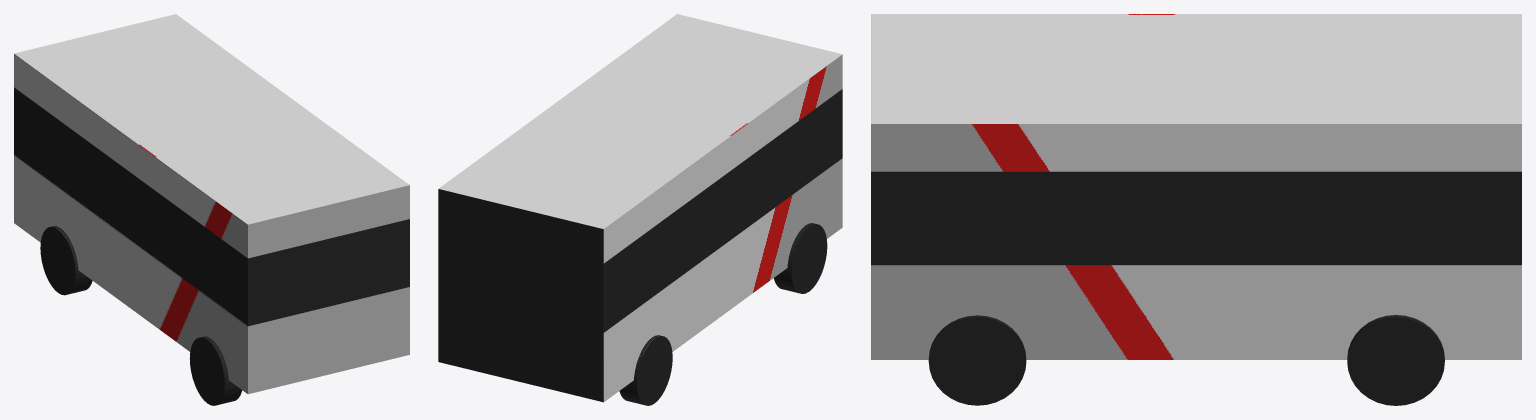
Rendered from uvx-front.glb.
3 views of the same model, side by side, from view 1: azimuth 30°, elevation 25°; view 2: azimuth 150°, elevation 25°; view 3: azimuth 270°, elevation 25° (orthographic). The views are drawn at different scales.
Visible parts, largest first — view 1: Cube; view 2: Cube; view 3: Cube.
Part boxes in pixels (x1,y1,x2,y2): Cube: (14,14,409,405); Cube: (438,14,842,405); Cube: (871,14,1521,405).
Size of the model in its own units: 2.09 by 2.41 by 5.
Materials: 1 (1 with a texture image).
